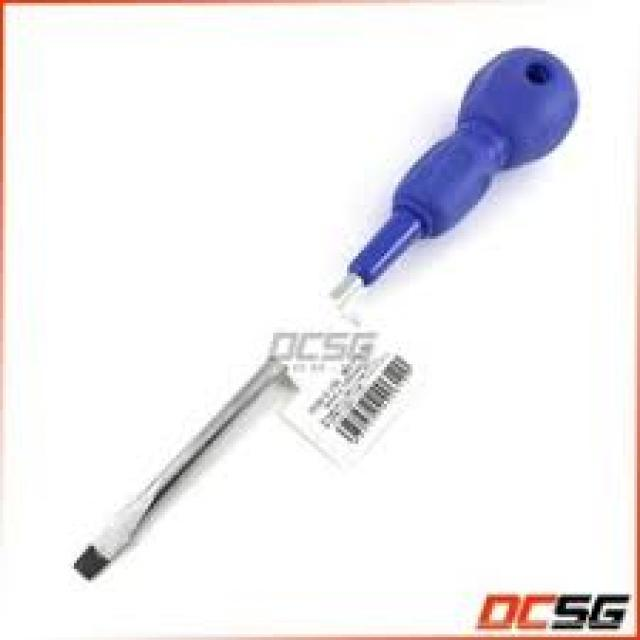screwdriver: (71, 41, 578, 582)
